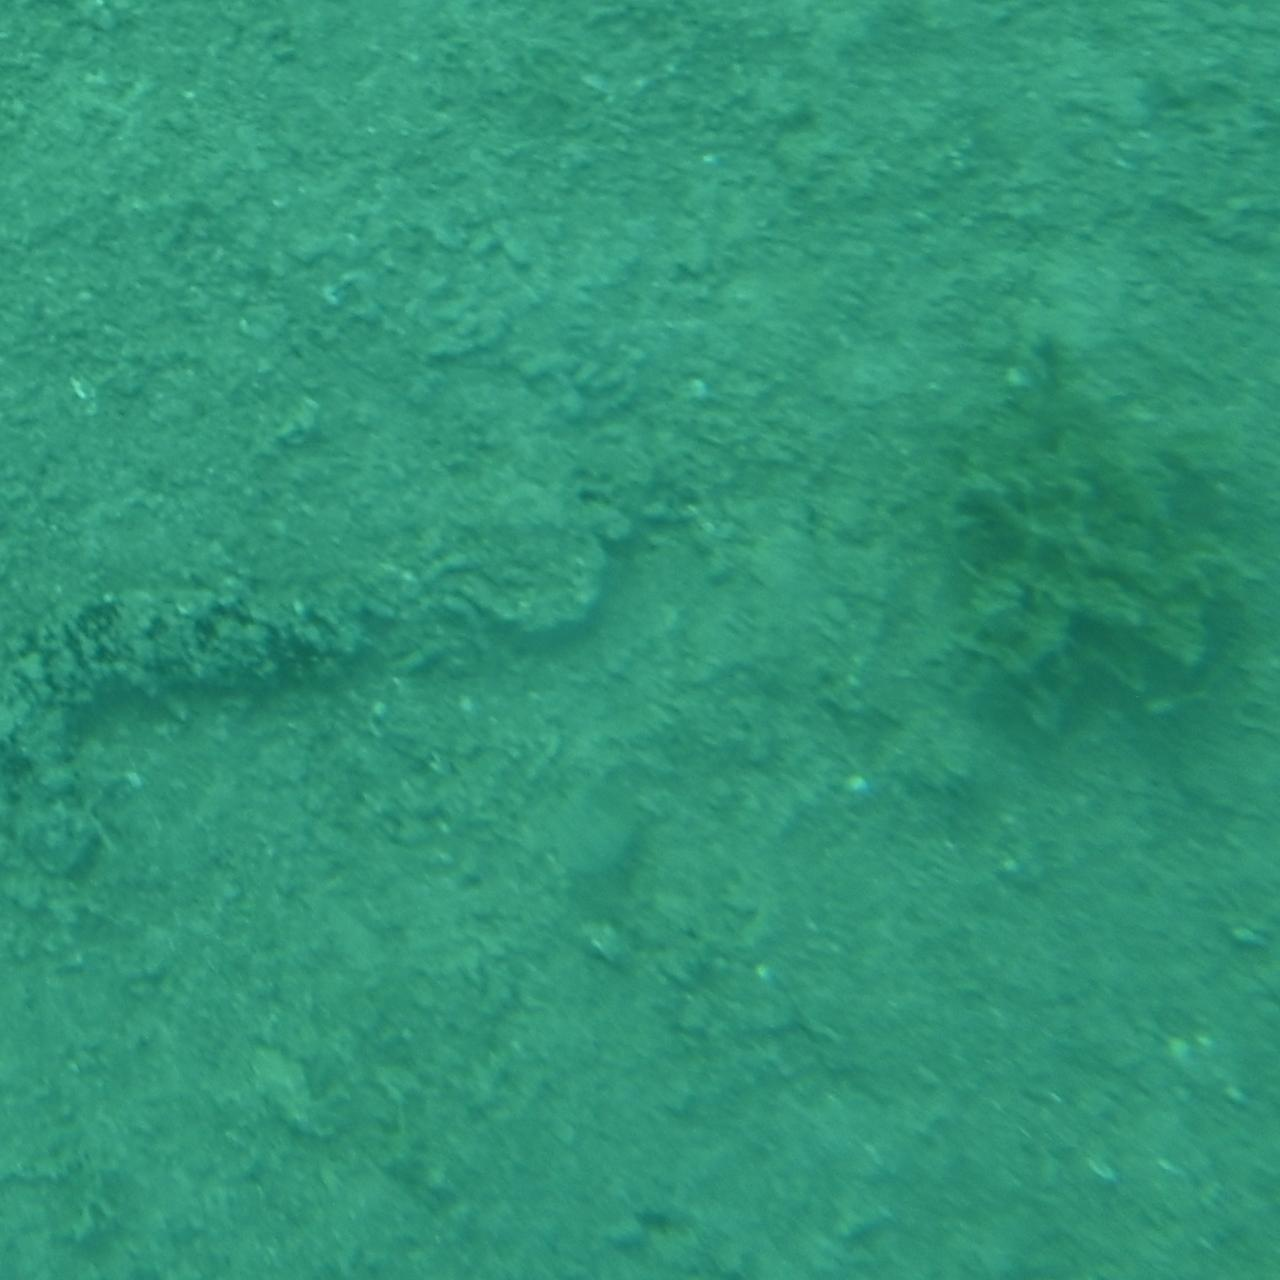Holothuria tubulosa: (0, 574, 377, 894)
Phaeophyceae -cfr Cystoseira-: (939, 348, 1273, 744)
